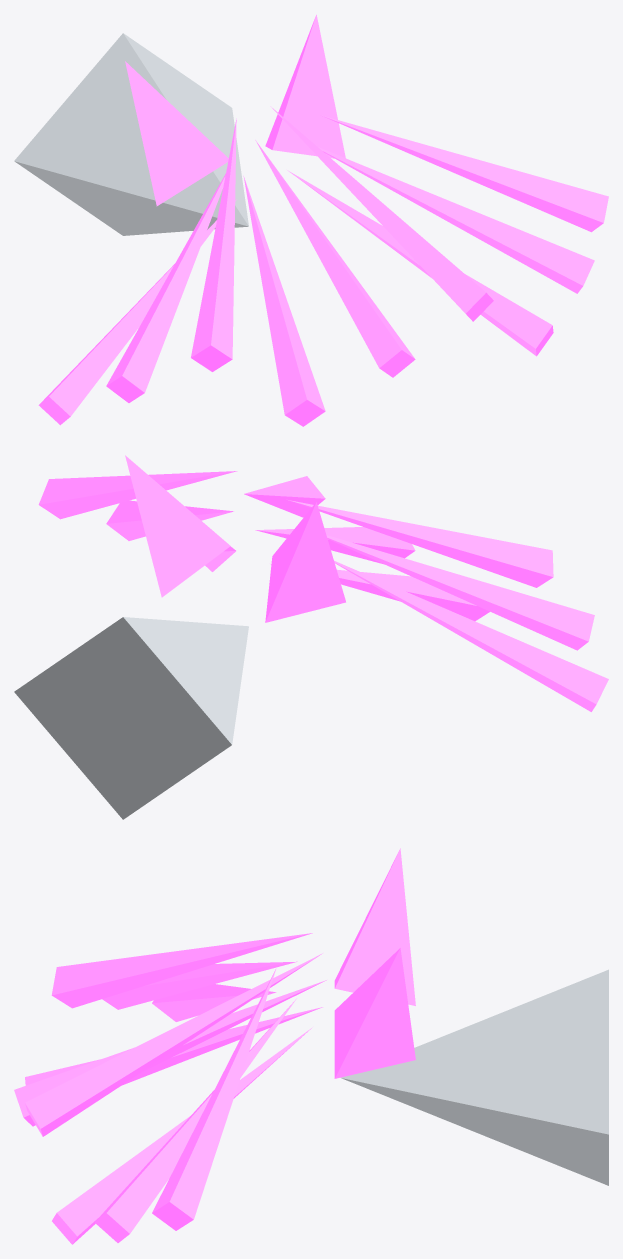
The model's file is enemy_kitsune.glb.
3 renders of one model, top to bottom at view 1: azimuth 30°, elevation 25°; view 2: azimuth 150°, elevation 25°; view 3: azimuth 270°, elevation 25°, orthographic. The views are drawn at different scales.
Visible parts, largest first — view 1: Cone, Cone.011, Cone.001, Cone.010, Cone.002, Cone.005, Cone.006, Cone.004, Cone.007, Cone.008, Cone.003, Cone.009; view 2: Cone, Cone.004, Cone.003, Cone.002, Cone.005, Cone.001, Cone.011, Cone.006, Cone.007, Cone.008, Cone.010; view 3: Cone, Cone.002, Cone.008, Cone.005, Cone.011, Cone.001, Cone.010, Cone.009, Cone.004, Cone.007, Cone.006, Cone.003.
Boxes of the visible parts, x1,y1,x2,y2 form: Cone: [14, 33, 248, 235]; Cone.011: [320, 115, 608, 232]; Cone.001: [125, 61, 228, 206]; Cone.010: [318, 147, 594, 293]; Cone.002: [265, 14, 345, 158]; Cone.005: [191, 118, 236, 371]; Cone.006: [243, 176, 325, 426]; Cone.004: [106, 173, 225, 402]; Cone.007: [255, 140, 415, 377]; Cone.008: [270, 106, 493, 321]; Cone.003: [38, 199, 236, 425]; Cone.009: [287, 170, 553, 356]; Cone: [14, 617, 248, 819]; Cone.004: [326, 535, 594, 650]; Cone.003: [334, 560, 608, 711]; Cone.002: [125, 455, 230, 597]; Cone.005: [288, 500, 553, 587]; Cone.001: [265, 502, 345, 622]; Cone.011: [38, 471, 237, 519]; Cone.006: [337, 569, 489, 621]; Cone.007: [255, 527, 415, 564]; Cone.008: [244, 476, 325, 517]; Cone.010: [106, 500, 233, 540]; Cone: [340, 969, 608, 1185]; Cone.002: [334, 948, 415, 1078]; Cone.008: [25, 953, 322, 1136]; Cone.005: [51, 933, 312, 1008]; Cone.011: [152, 968, 276, 1230]; Cone.001: [334, 848, 415, 1005]; Cone.010: [94, 998, 296, 1242]; Cone.009: [52, 1027, 312, 1244]; Cone.004: [102, 961, 297, 1009]; Cone.007: [14, 980, 326, 1126]; Cone.006: [25, 1007, 322, 1085]; Cone.003: [152, 984, 276, 1021].
Size of the model in its own units: 1.85 by 0.8515 by 1.59.
